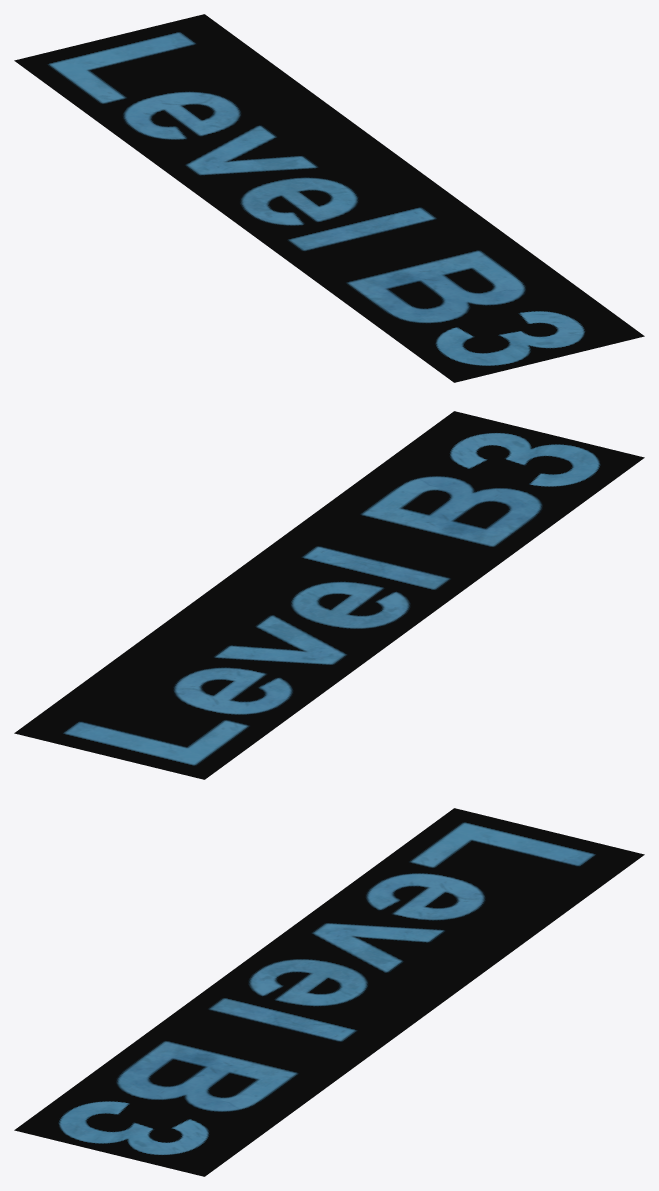
The model's file is HH_Decal_Level_B3.fbx.
3 views of the same model, one above another, from view 1: azimuth 30°, elevation 25°; view 2: azimuth 150°, elevation 25°; view 3: azimuth 330°, elevation 25° (orthographic).
Parts seen in each view (by area): view 1: HH_Decal_Level_B3; view 2: HH_Decal_Level_B3; view 3: HH_Decal_Level_B3.
Part boxes in pixels (x1,y1,x2,y2): HH_Decal_Level_B3: (14, 14, 644, 382); HH_Decal_Level_B3: (14, 411, 644, 779); HH_Decal_Level_B3: (14, 808, 644, 1176).
Size of the model in its own units: 37.69 by 0 by 151.
